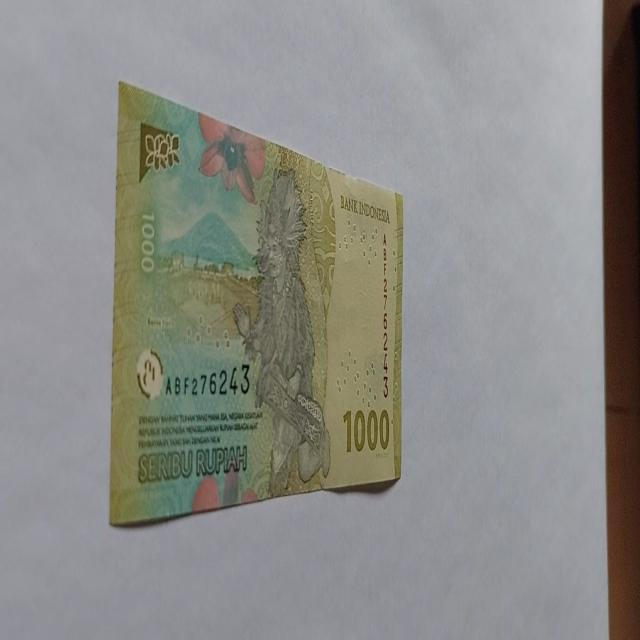seribu rupiah kertas: (108, 79, 404, 527), (232, 166, 330, 497)
